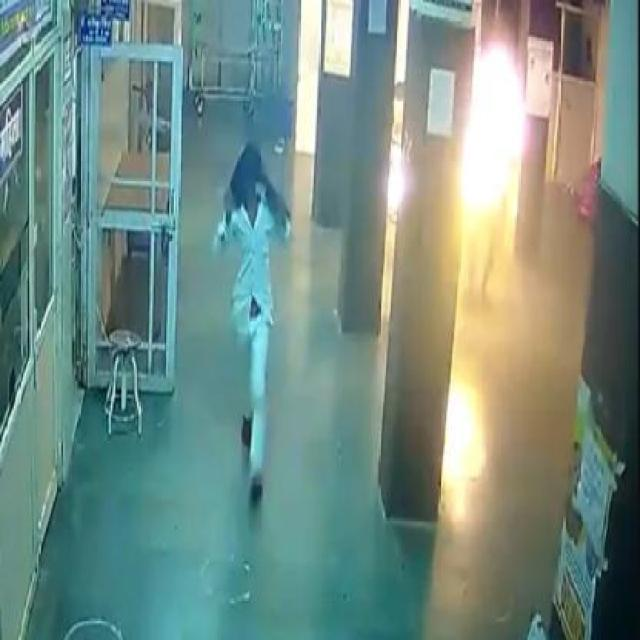Fire: (468, 42, 528, 230), (439, 378, 491, 523), (388, 133, 404, 222)
